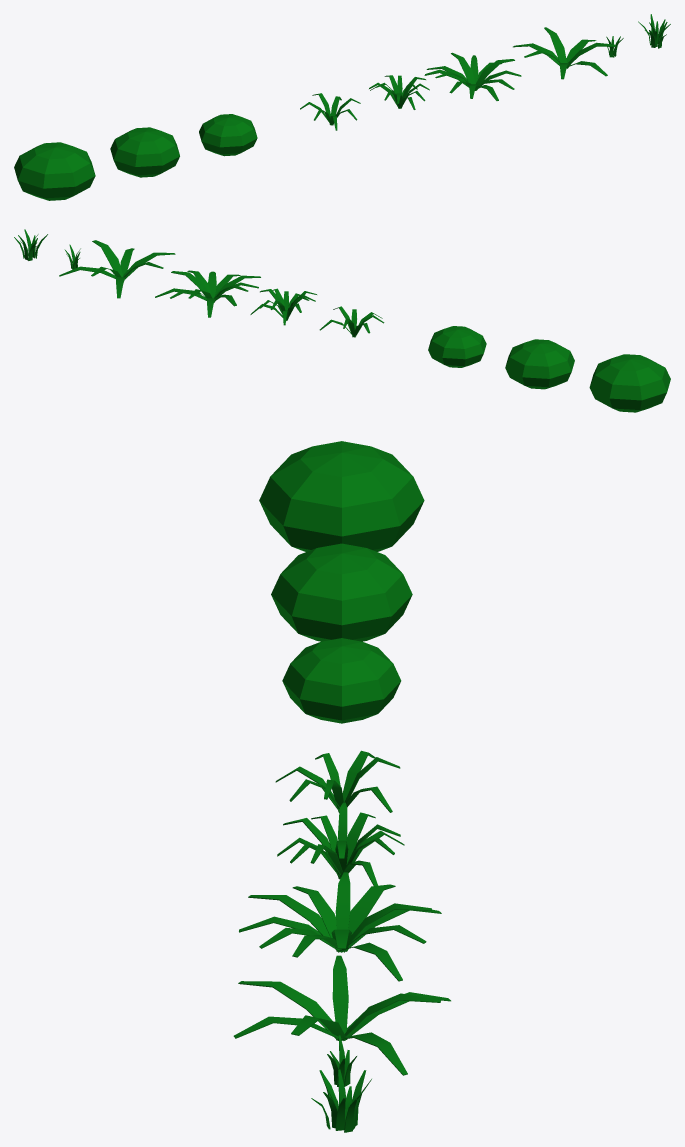
Rendered from Grass_and_Bushes.fbx.
The picture shows the model from 3 angles, top to bottom: view 1: azimuth 30°, elevation 25°; view 2: azimuth 150°, elevation 25°; view 3: azimuth 270°, elevation 25°; orthographic projection. The views are drawn at different scales.
Visible parts, largest first — view 1: pSphere13, pSphere12, pSphere11, pCube70; view 2: pSphere13, pSphere12, pSphere11, pCube73; view 3: pSphere13, pSphere12, pSphere11, pCube67.
Part boxes in pixels (x1=…): pSphere13: x1=14, y1=142, x2=95, y2=200; pSphere12: x1=110, y1=127, x2=179, y2=177; pSphere11: x1=199, y1=114, x2=257, y2=156; pCube70: x1=544, y1=27, x2=566, y2=62; pSphere13: x1=589, y1=354, x2=670, y2=412; pSphere12: x1=505, y1=339, x2=574, y2=389; pSphere11: x1=428, y1=326, x2=486, y2=367; pCube73: x1=92, y1=240, x2=122, y2=277; pSphere13: x1=259, y1=441, x2=424, y2=551; pSphere12: x1=271, y1=543, x2=412, y2=641; pSphere11: x1=282, y1=638, x2=401, y2=723; pCube67: x1=332, y1=955, x2=348, y2=1033.
Bounding box in the file's own units: 7.59 × 0.501 × 1.1.
